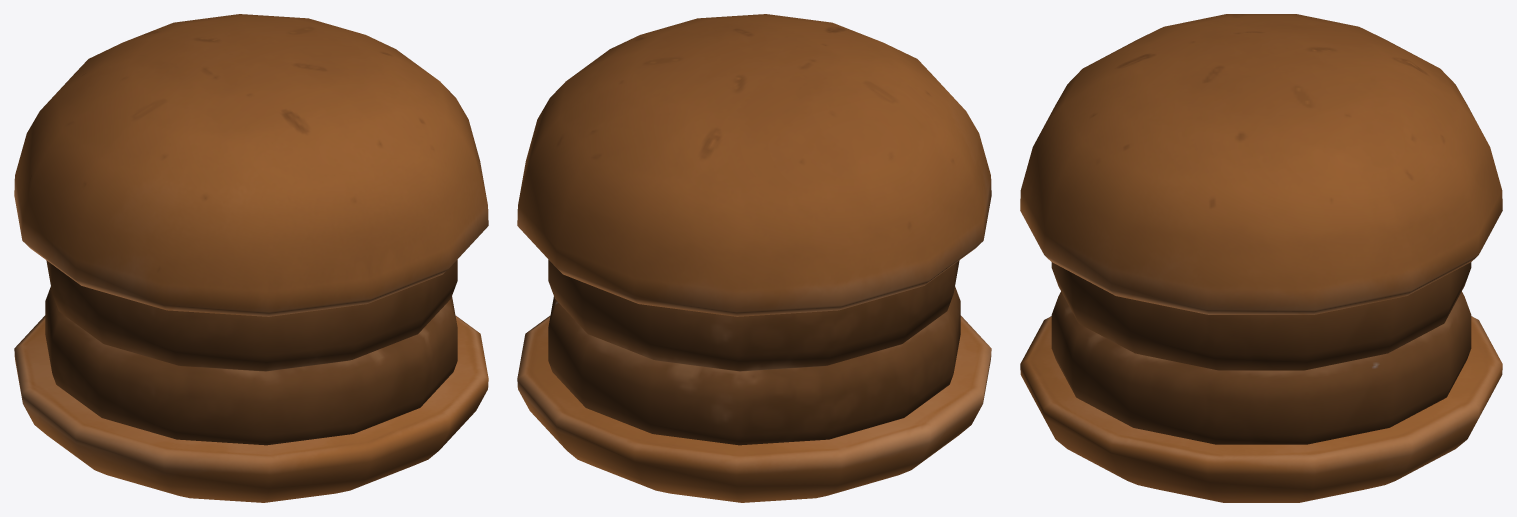
Rendered from MSH_Hamburguesa_P_2C.fbx.
3 views of the same model, side by side, from view 1: azimuth 30°, elevation 25°; view 2: azimuth 150°, elevation 25°; view 3: azimuth 270°, elevation 25° (orthographic).
Parts seen in each view (by area): view 1: MSH_Hamburguesa_P_2C; view 2: MSH_Hamburguesa_P_2C; view 3: MSH_Hamburguesa_P_2C.
Boxes of the visible parts, x1,y1,x2,y2 form: MSH_Hamburguesa_P_2C: [14, 14, 488, 502]; MSH_Hamburguesa_P_2C: [517, 14, 991, 502]; MSH_Hamburguesa_P_2C: [1020, 14, 1502, 502].
Bounding box in the file's own units: 14.42 × 14.79 × 12.98.
1 material, 1 textured.
